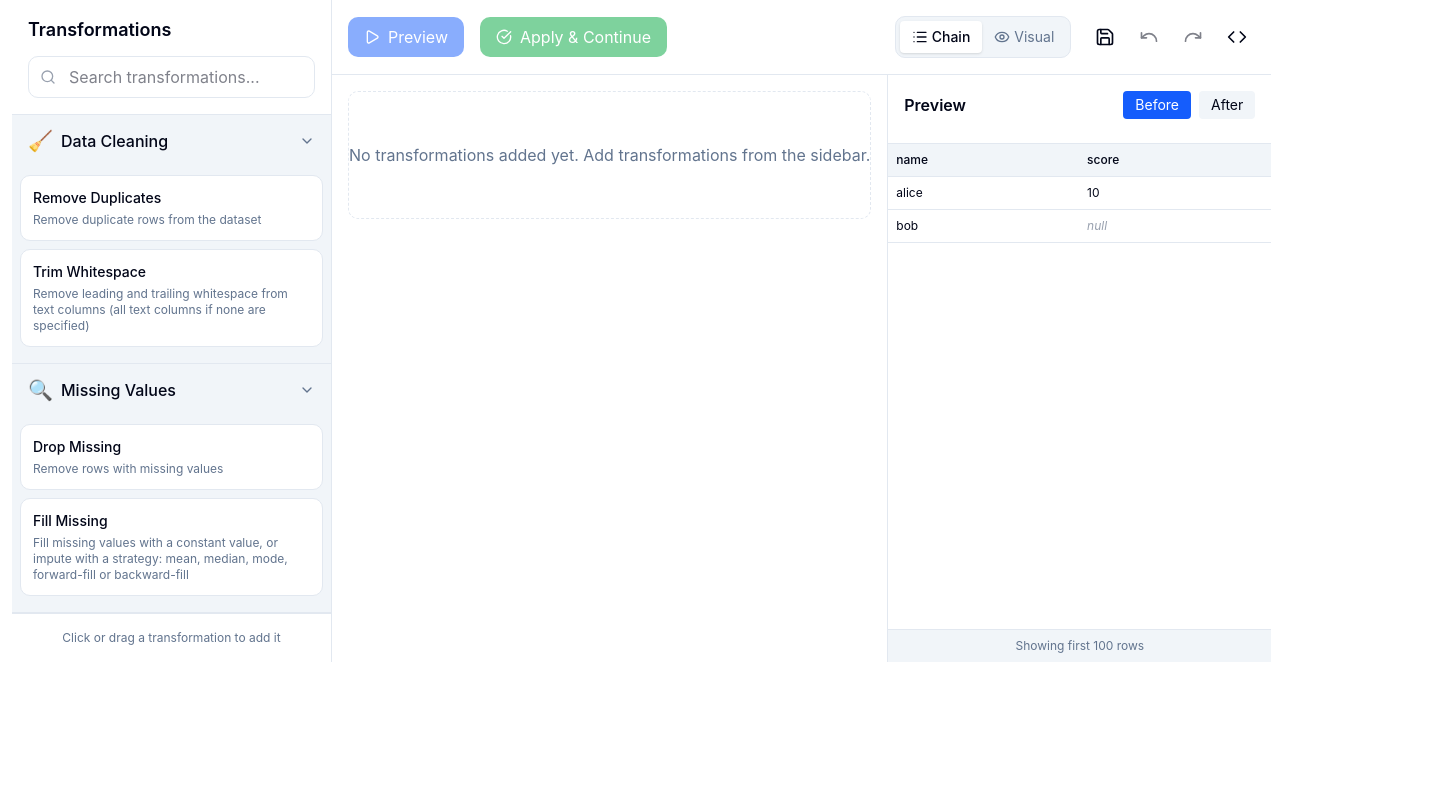
Test: TransformationPipeline actions (#855) › reads the rows again after an apply that failed part-way, since its first steps moved the dataset
Click the button with aria-label "add trim whitespace".
click(172, 298)  # box [20,249,323,347]
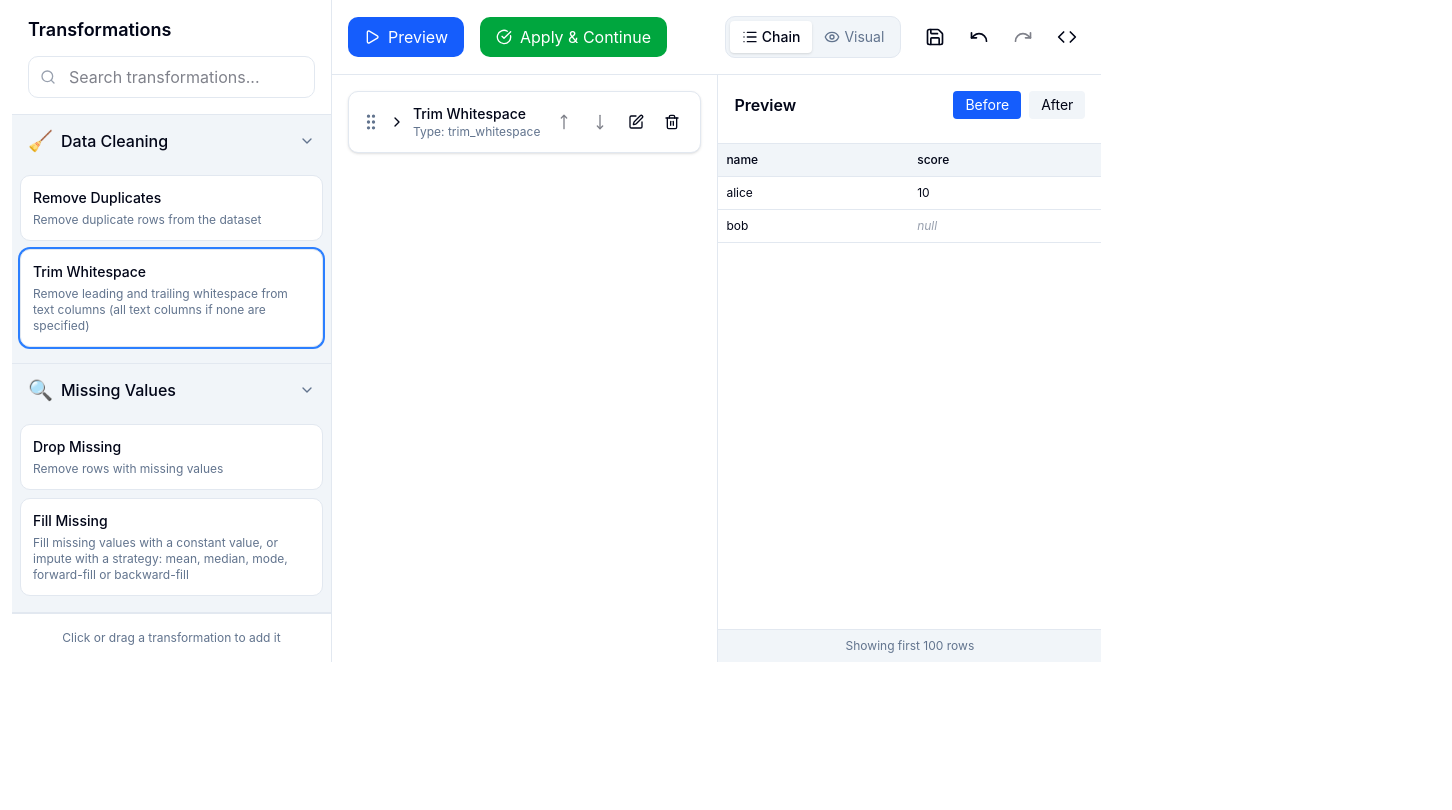
Click the button with aria-label "add remove duplicates".
click(97, 198)  # box [20,175,323,241]
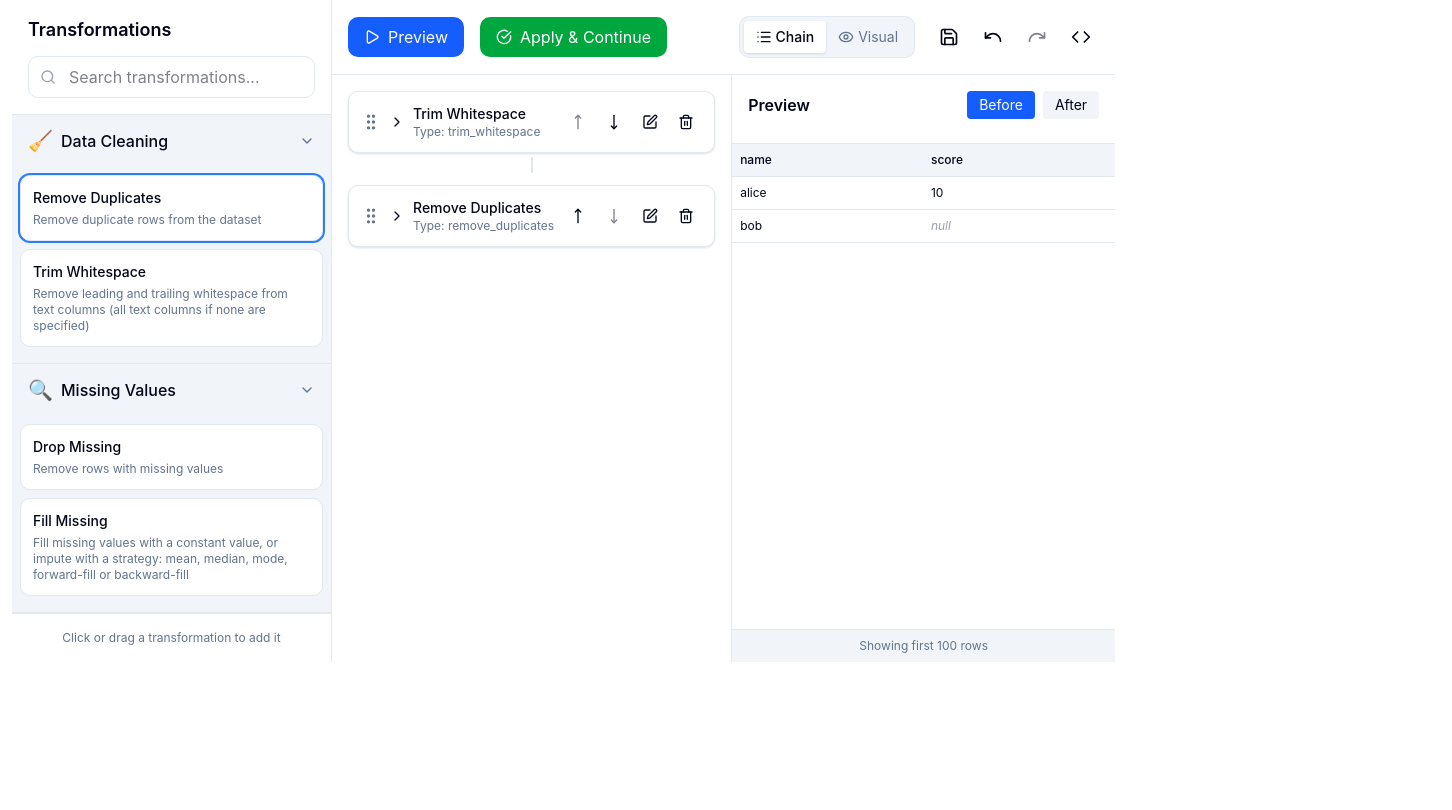
Check: the text "bob" is shown, box [732,210,923,242]
Click the button "Apply & Continue".
click(574, 37)  # box [480,17,667,57]
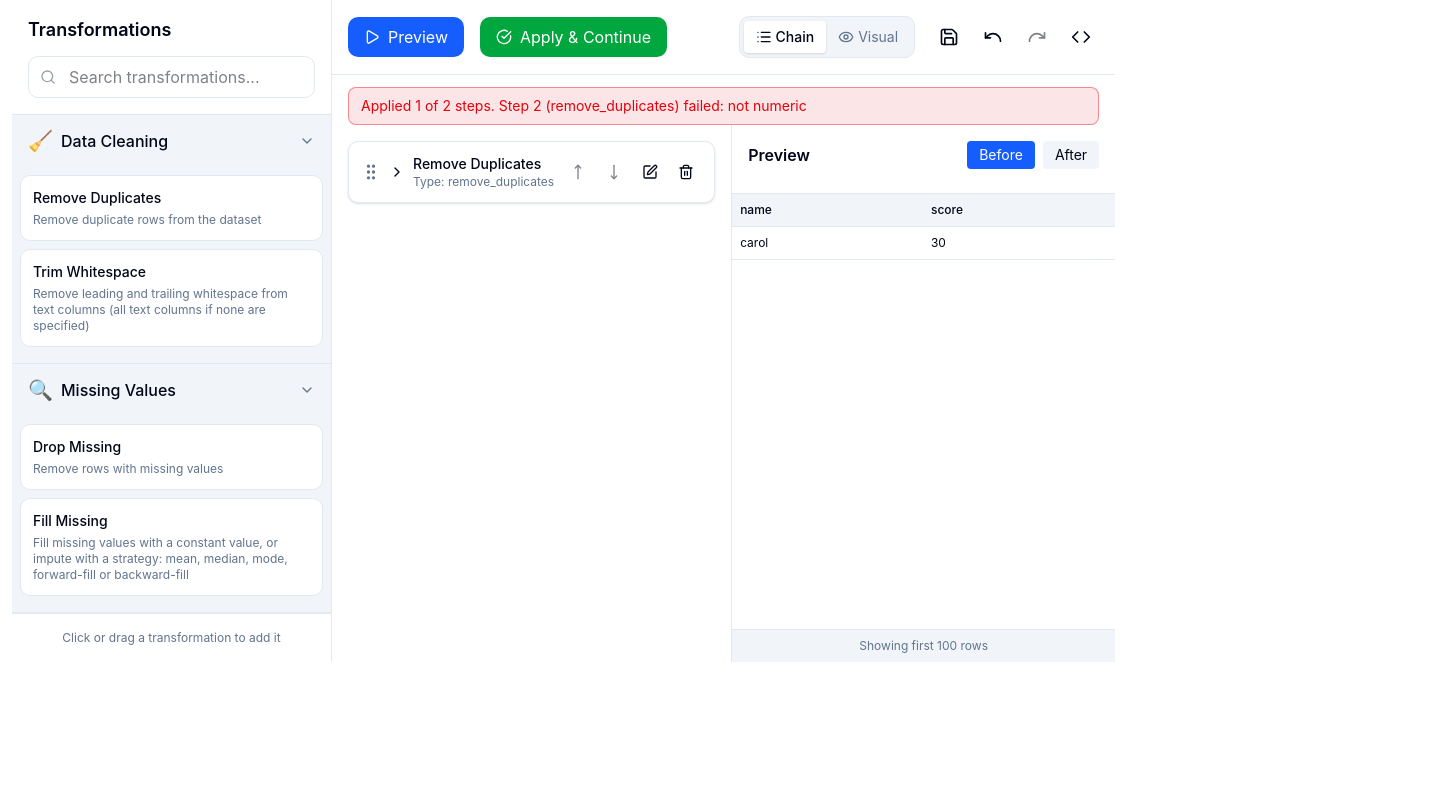
Check: the message with test id "pipeline-error" shows "Applied 1 of 2 steps", box [361,97,807,114]
Check: the text "carol" is shown, box [732,226,923,260]
Check: the text "bob" is gone
